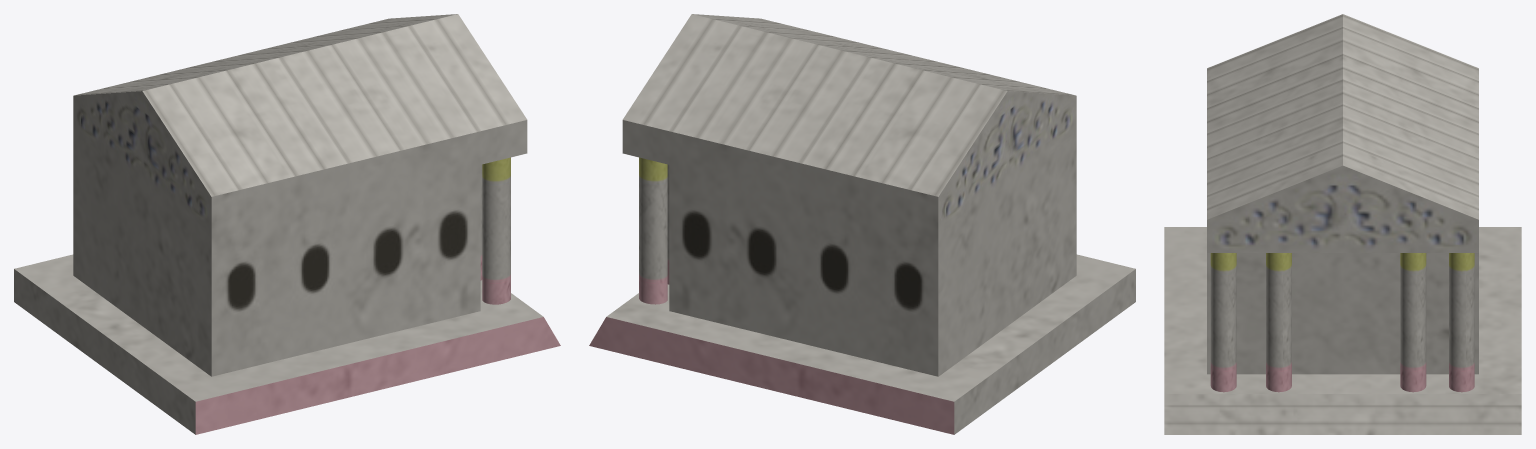
Rendered from mausoleumRed.fbx.
3 renders of one model, left to right at view 1: azimuth 30°, elevation 25°; view 2: azimuth 150°, elevation 25°; view 3: azimuth 270°, elevation 25°, orthographic.
Visible parts, largest first — view 1: mausoleumRed; view 2: mausoleumRed; view 3: mausoleumRed.
Boxes of the visible parts, x1,y1,x2,y2 form: mausoleumRed: (14, 14, 560, 434); mausoleumRed: (589, 14, 1135, 434); mausoleumRed: (1164, 14, 1521, 434).
Size of the model in its own units: 7.79 by 5.47 by 6.71.
Materials: 1 (1 with a texture image).
